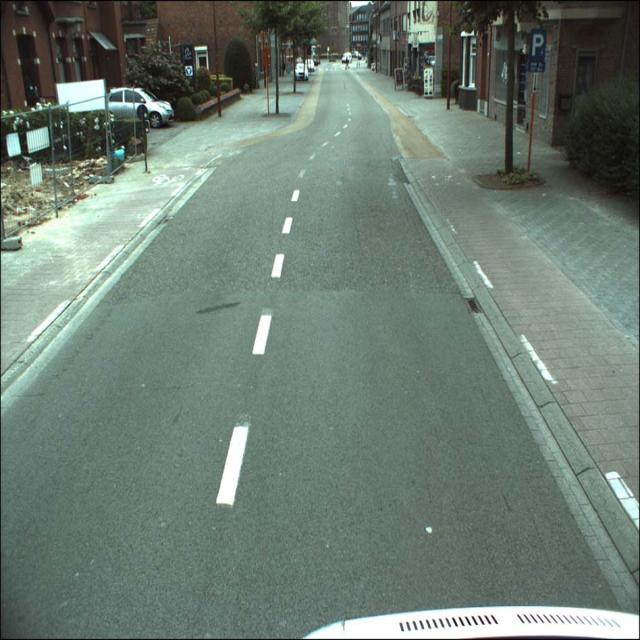park: (530, 28, 545, 61)
